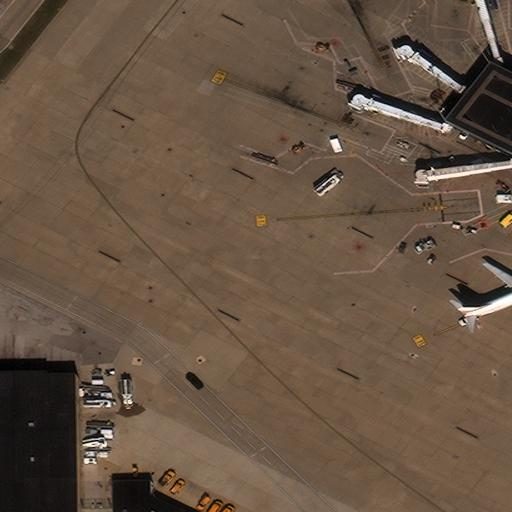Medium Civil Transport: (464, 263, 512, 327)
